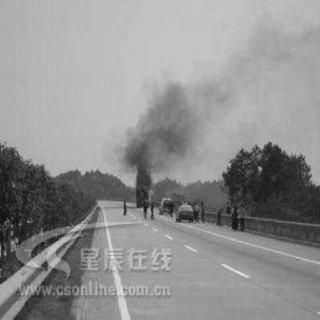Fire: (146, 181, 156, 197)
Smoke: (156, 89, 192, 163), (128, 118, 158, 176)
